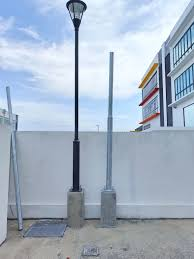light_pole: (95, 49, 124, 228), (64, 11, 86, 228)
